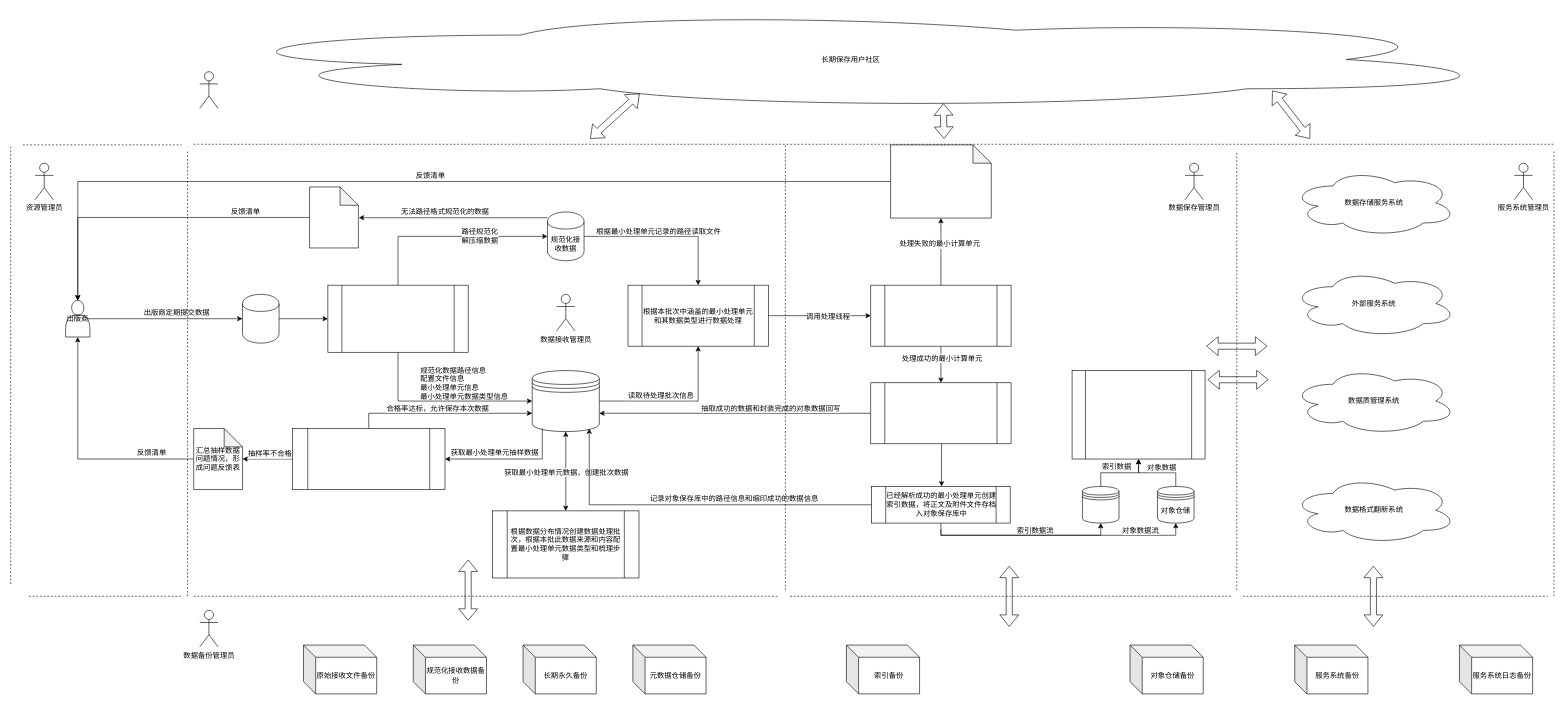
This 1565x705 diagram has some shape labels left out. The shapes that lost their labels are listed below. From the top down, each one's centre as x and y in pixels, then its label:
point (208, 89): 用户社群管理员
point (940, 181): 将处理失败的最小计算单元剔除出来，记录其所在的批次信息，接收文件的路径信息，接收时间和数据提供商的信息进行数据反馈
point (333, 217): 形成情况反馈清单
point (260, 318): 出版商原始数据
point (397, 318): 1.数据格式规范化 2.配置文件建立 3.数据内容分析
point (940, 315): 从计算资源池中，根据最小计算单元的配置情况，创建计算线程，启动数据处理任务
point (565, 401): 元数据仓储
point (940, 413): 1.完成数据的抽取，数据关联 2.进行保存对象封装
point (1138, 414): 计算代理：代理服务翻落对于元数据（索引服务器），原文（数字对象服务器）或者是其他元数据的数据请求
point (368, 459): 随机抽样检测，测试出版商本次提交的数据和本次的配置文件情况
point (1100, 504): 索引仓储
